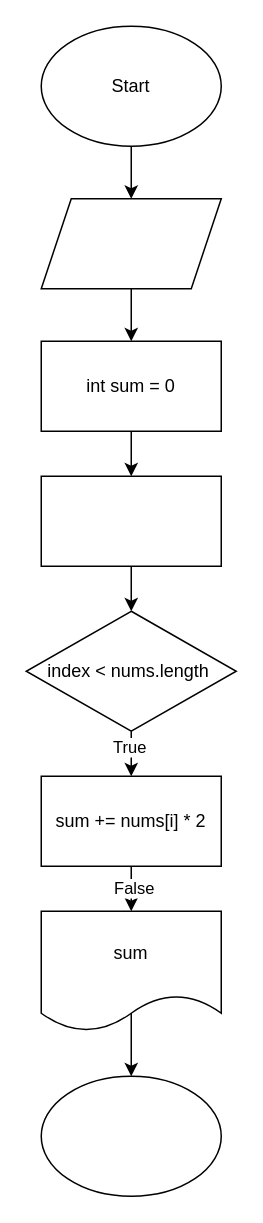
Image size: 263x1223. Some labels were removed from this diagram. The box of each missing label's shape, as (x1, y1, x2, y2) in pixels:
End: (40, 1075, 221, 1196)
int index = 0: (40, 475, 221, 566)
int[] nums: (40, 197, 221, 289)
